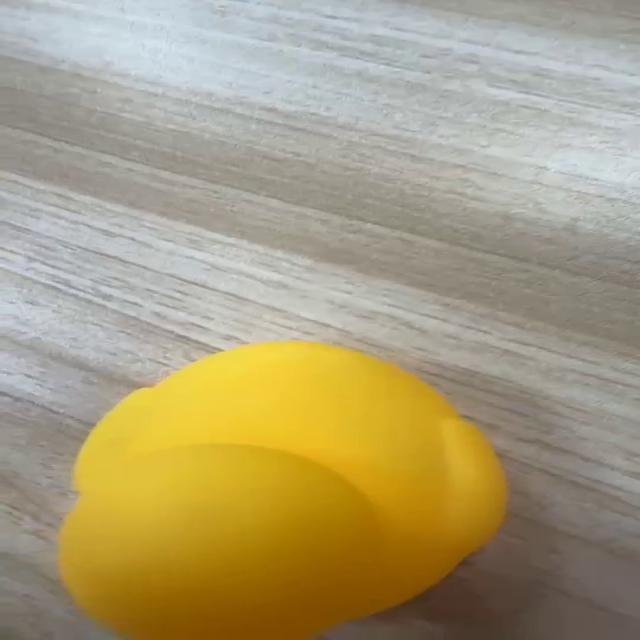yellow_duck: (54, 339, 510, 638)
